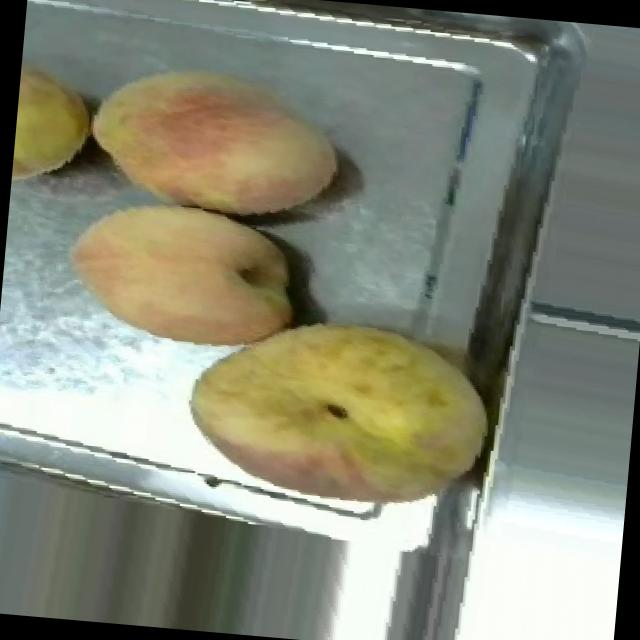Fruit: (168, 292, 507, 534), (72, 42, 356, 242), (47, 187, 312, 362), (9, 39, 105, 208)
